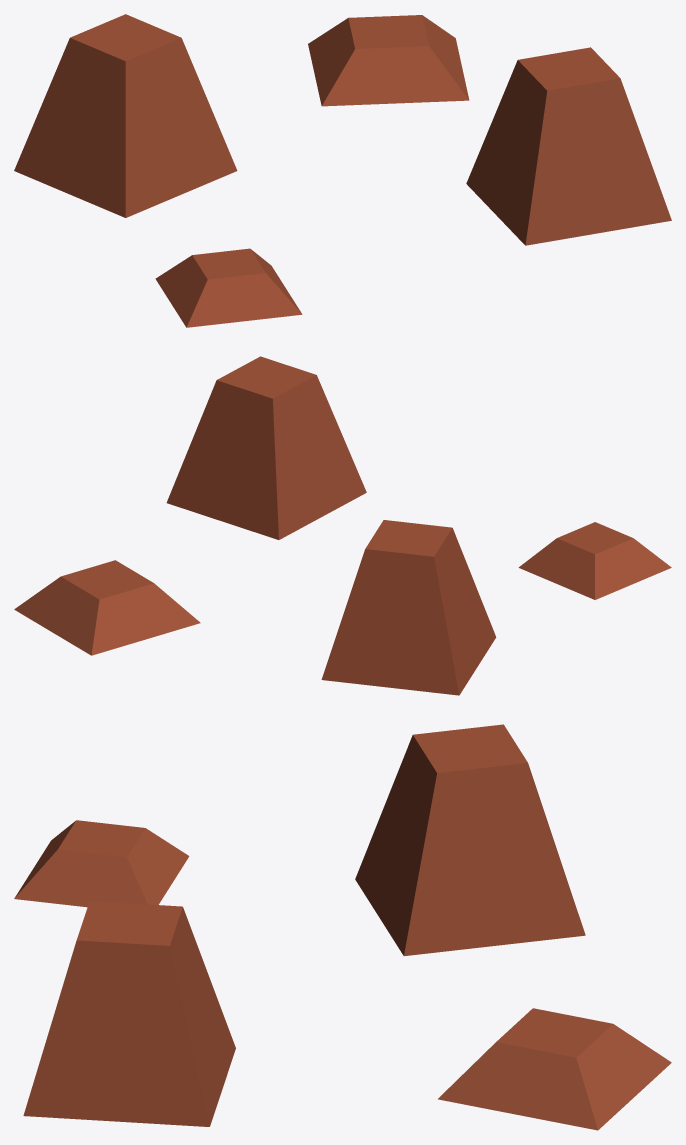
Rendered from Rocks Small B.glb.
3 views of the same model, one above another, from view 1: azimuth 30°, elevation 25°; view 2: azimuth 150°, elevation 25°; view 3: azimuth 270°, elevation 25° (orthographic). The views are drawn at different scales.
Visible parts, largest first — view 1: rocks_smallB; view 2: rocks_smallB; view 3: rocks_smallB.
Part boxes in pixels (bbox=[...]): rocks_smallB: bbox=[14, 14, 671, 327]; rocks_smallB: bbox=[14, 356, 671, 695]; rocks_smallB: bbox=[14, 724, 671, 1130].
Bounding box in the file's own units: 0.7288 × 0.186 × 0.6988.
